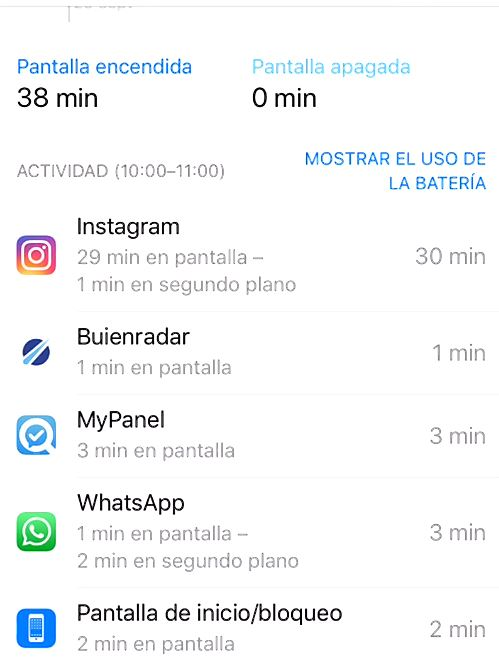activity: (6, 158, 236, 185)
app: (4, 214, 492, 305), (4, 483, 492, 574), (9, 317, 493, 389), (10, 399, 494, 471)
